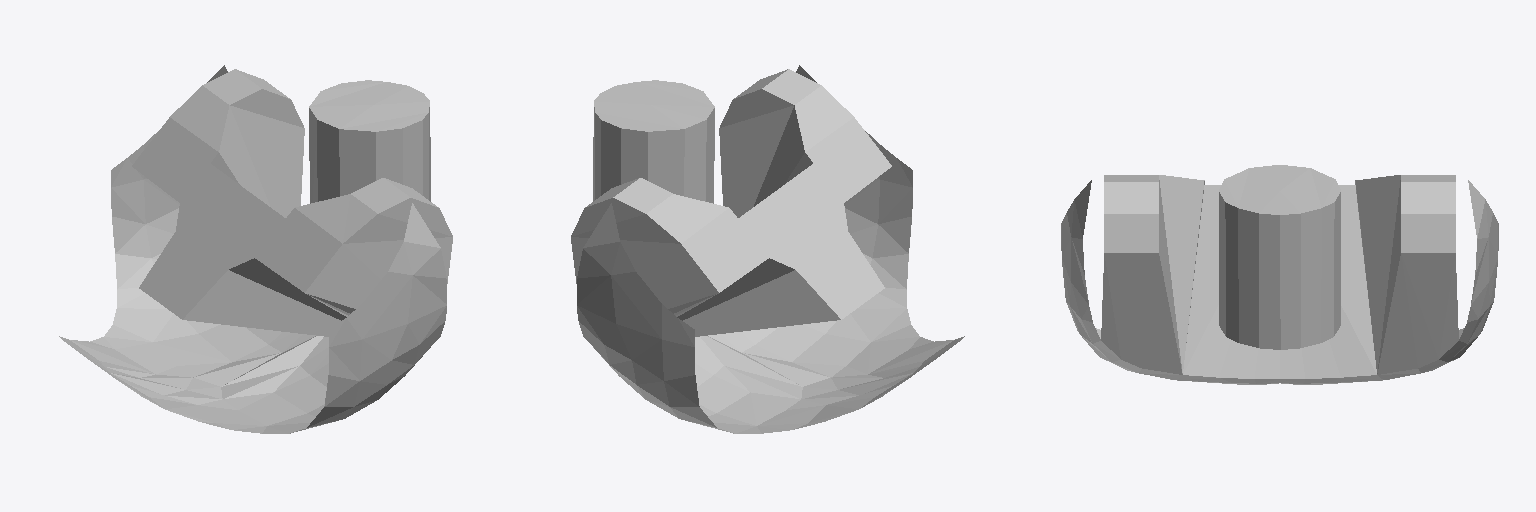
Rendered from icub_simple_collision_lap_belt_1.obj.
3 views of the same model, side by side, from view 1: azimuth 30°, elevation 25°; view 2: azimuth 150°, elevation 25°; view 3: azimuth 270°, elevation 25° (orthographic).
Visible parts, largest first — view 1: pelvis_mesh_MTL6; view 2: pelvis_mesh_MTL6; view 3: pelvis_mesh_MTL6.
Boxes of the visible parts, x1,y1,x2,y2 form: pelvis_mesh_MTL6: [59, 65, 452, 433]; pelvis_mesh_MTL6: [571, 65, 964, 433]; pelvis_mesh_MTL6: [1061, 165, 1498, 384].
Bounding box in the file's own units: 0.1951 × 0.136 × 0.2202.